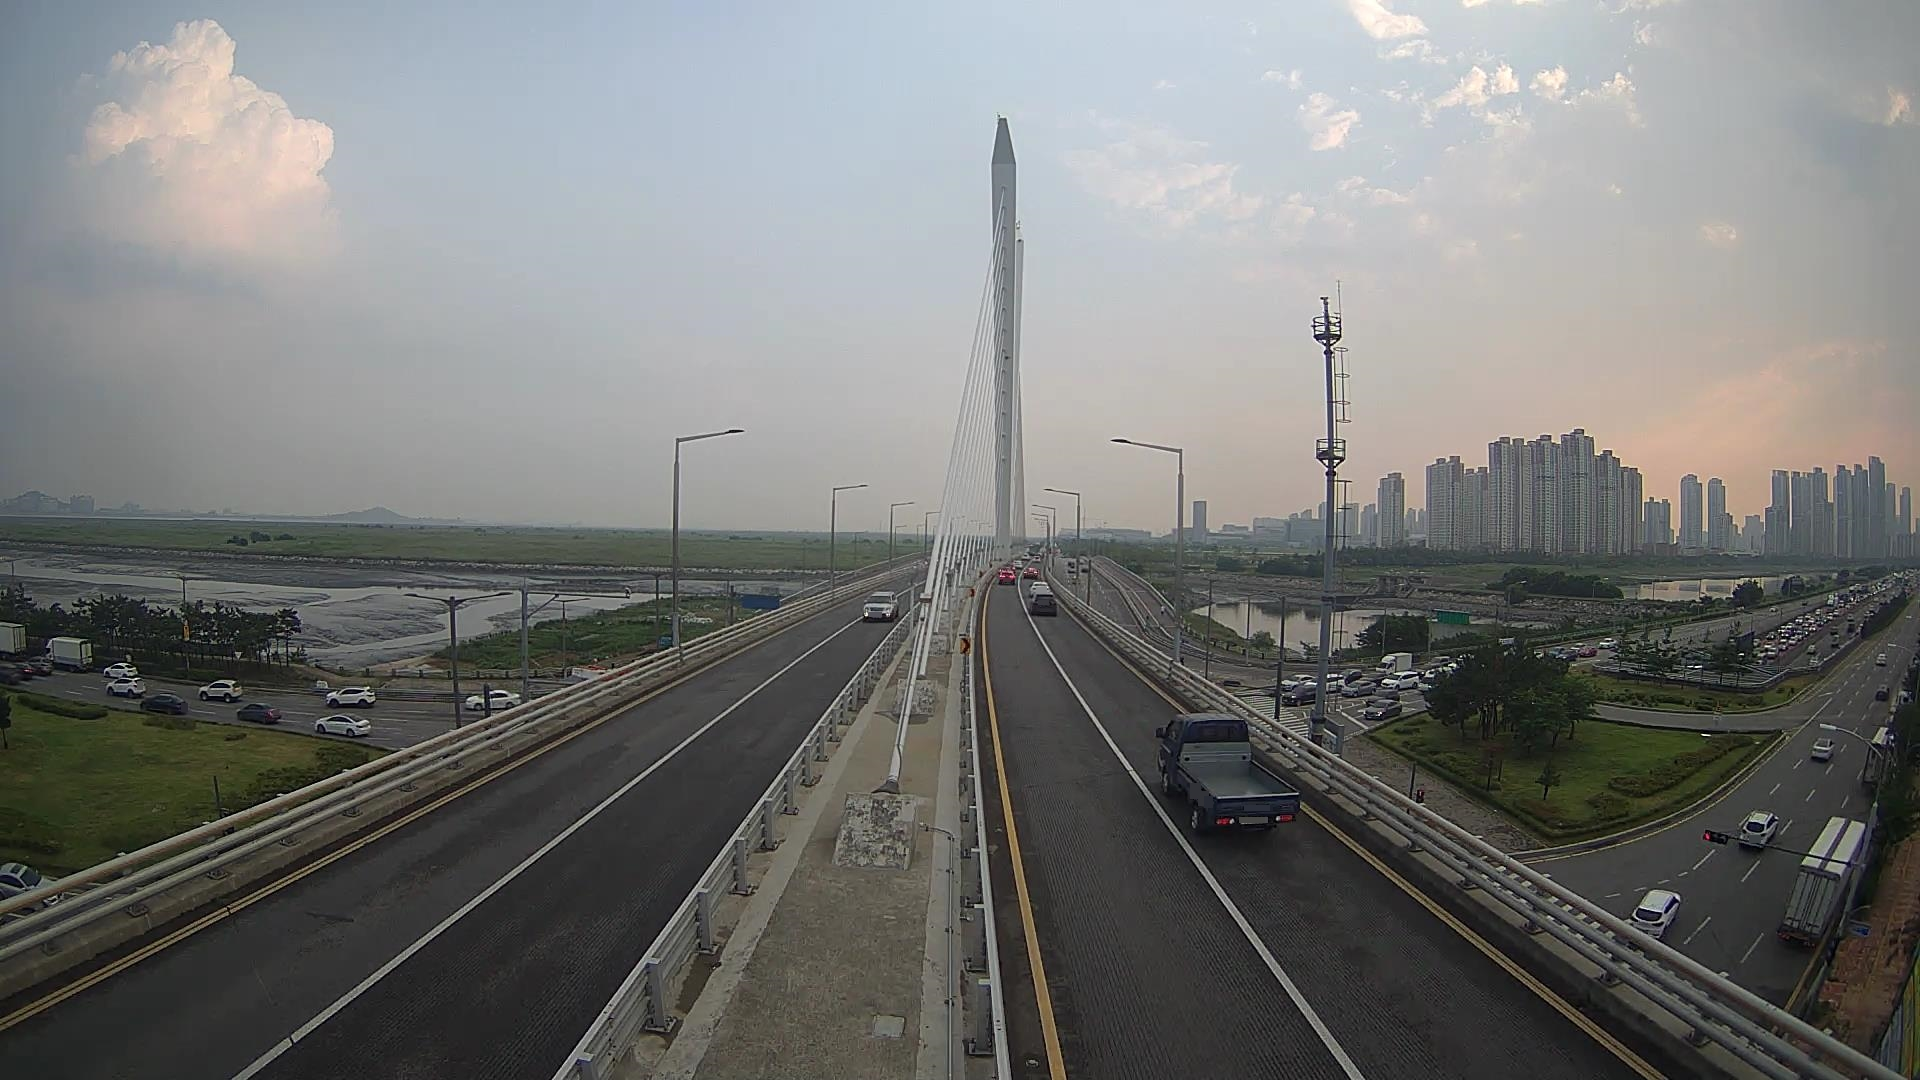정상차량: (1156, 713, 1300, 832)
